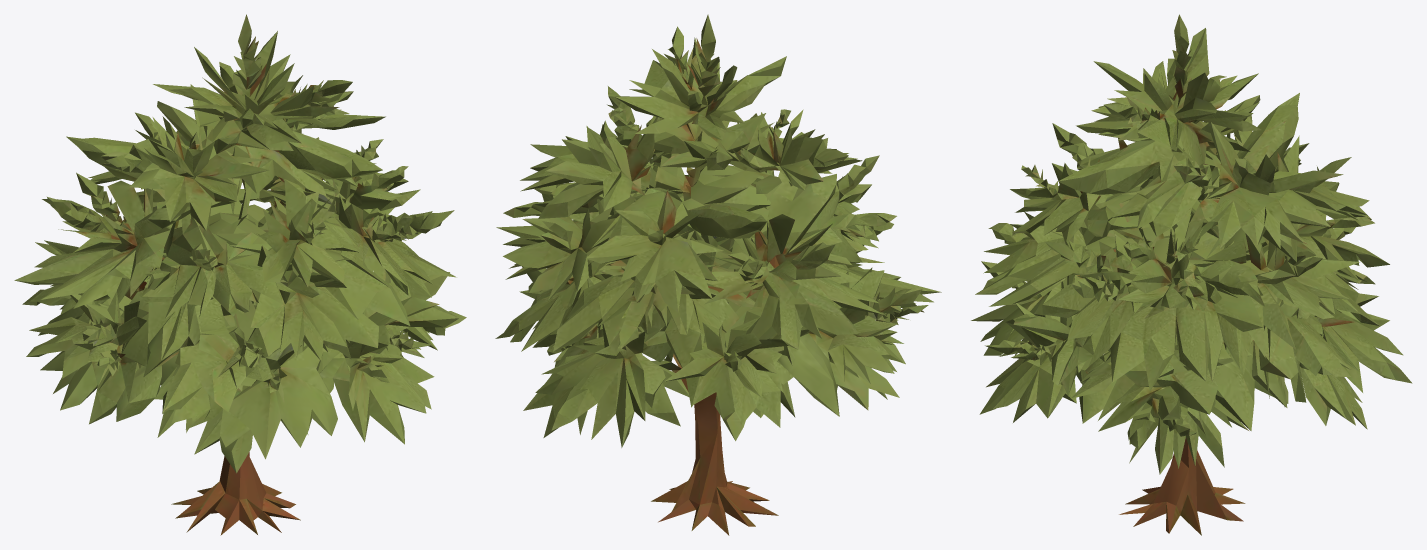
File: tree.glb
3 renders of one model, left to right at view 1: azimuth 30°, elevation 25°; view 2: azimuth 150°, elevation 25°; view 3: azimuth 270°, elevation 25°, orthographic.
Bounding box in the file's own units: 1.62 × 1.9 × 1.53.
1 material, 1 textured.
